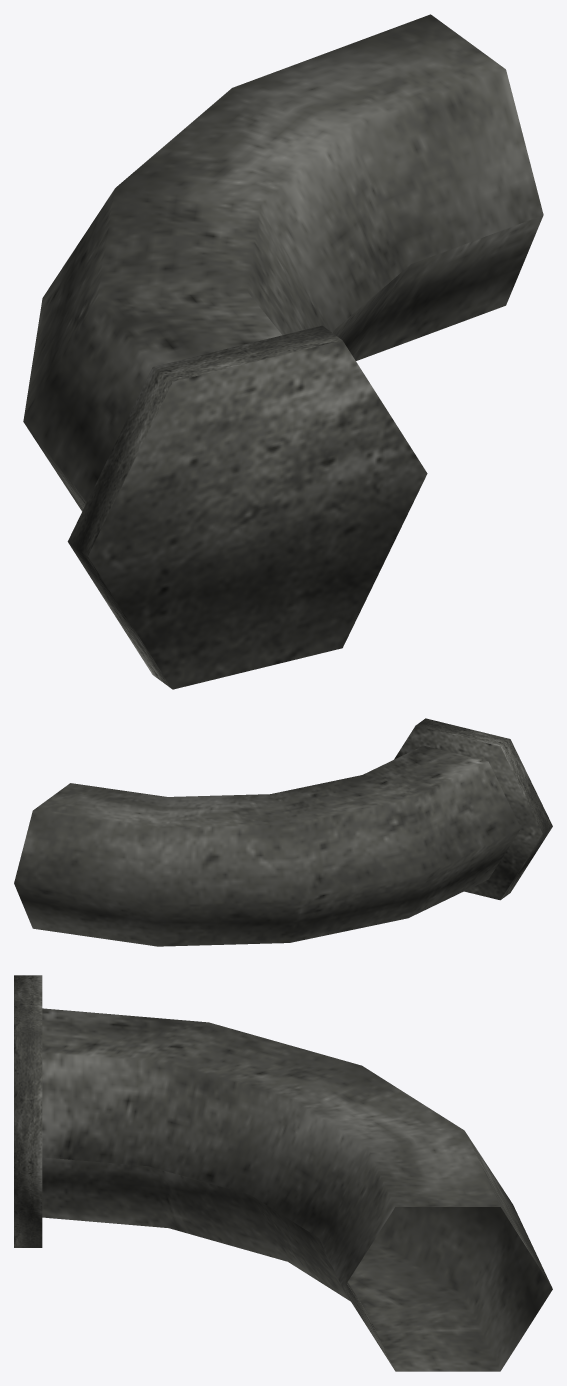
File: small_metal_4_elbow_hz.fbx
3 views of the same model, one above another, from view 1: azimuth 30°, elevation 25°; view 2: azimuth 150°, elevation 25°; view 3: azimuth 270°, elevation 25° (orthographic). The views are drawn at different scales.
Parts seen in each view (by area): view 1: polySurface531; view 2: polySurface531; view 3: polySurface531.
Part boxes in pixels (x1,y1,x2,y2): polySurface531: [23, 14, 543, 689]; polySurface531: [14, 718, 552, 946]; polySurface531: [14, 975, 552, 1371].
Size of the model in its own units: 2.65 by 1.13 by 2.57.
